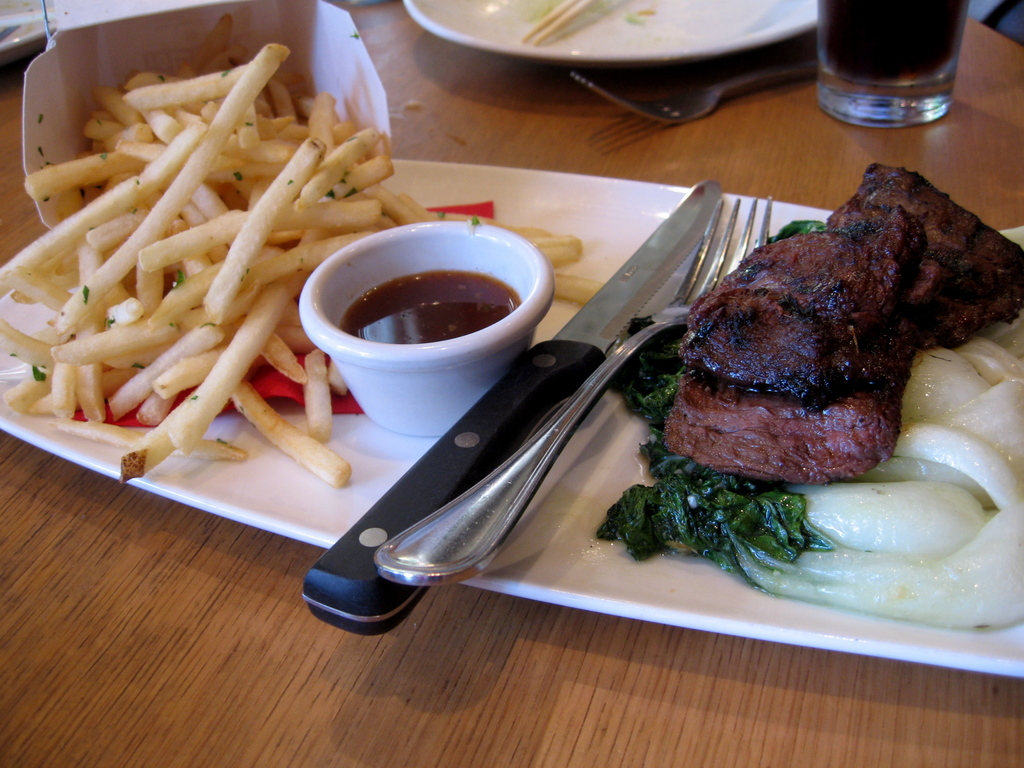French fries: (0, 30, 394, 501)
